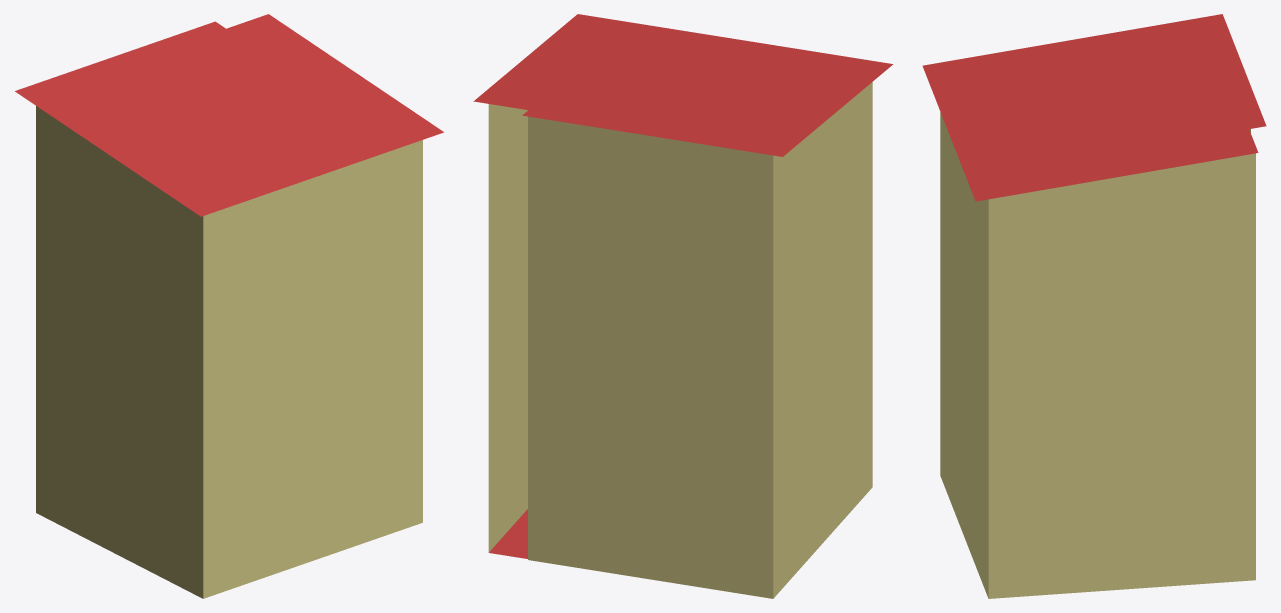
The picture shows the model from 3 angles, left to right: view 1: azimuth 30°, elevation 25°; view 2: azimuth 150°, elevation 25°; view 3: azimuth 270°, elevation 25°; orthographic projection. The views are drawn at different scales.
Size of the model in its own units: 5.9 by 5.47 by 7.64.
